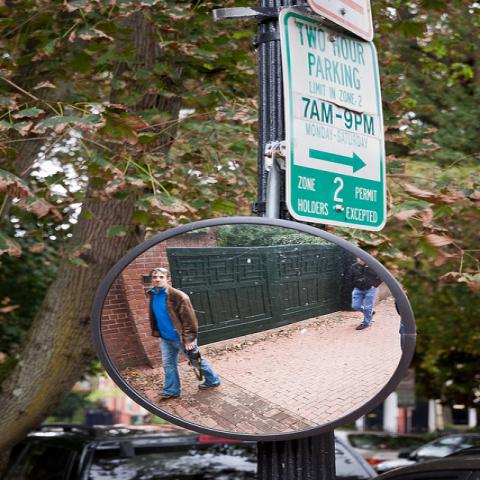car: (0, 423, 377, 479), (374, 432, 479, 479), (331, 430, 431, 465)
